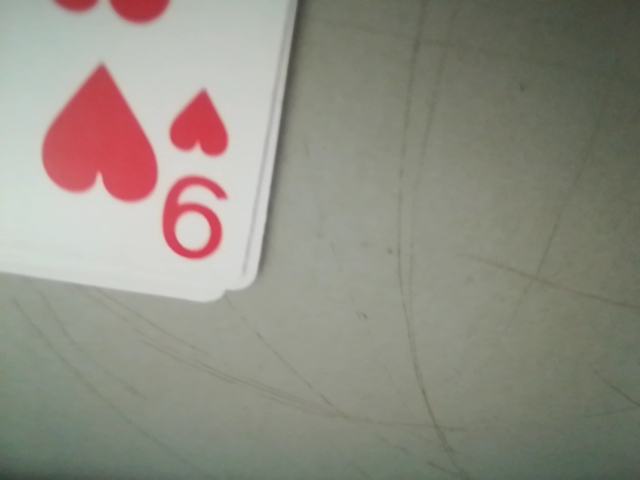hx 9: (154, 86, 241, 275)
